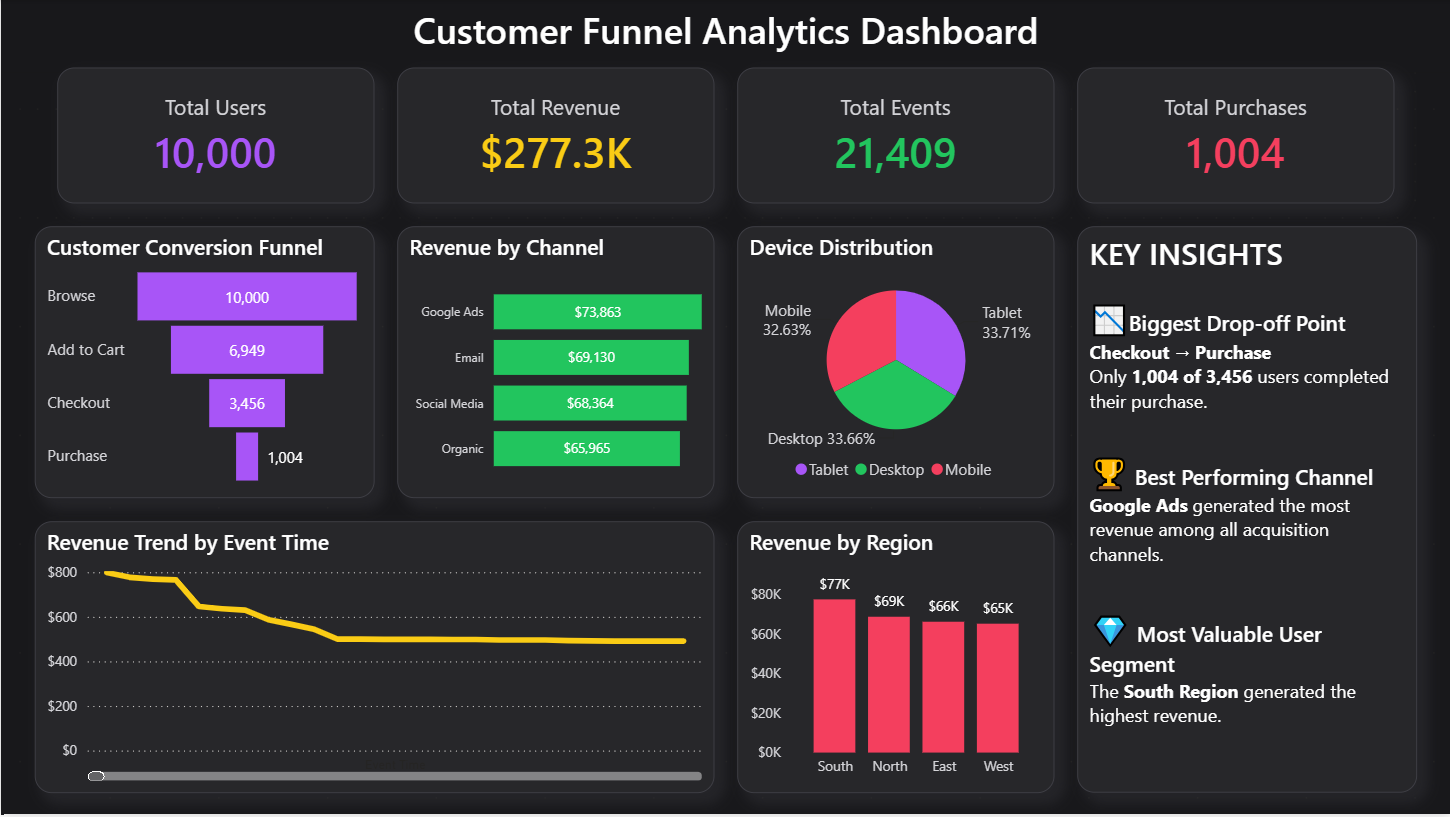

The page's visual inventory and layout, read from the dashboard file:
{"tool":"powerbi","page":{"name":"Page 1","canvas":[1280,720],"ordinal":0},"visuals":[{"type":"textbox","box":[0,0,1280,64],"z":0},{"type":"cardVisual","fields":{"Data":["client_site_dataset.Total Users"]},"box":[50,60,280,120],"z":1000},{"type":"cardVisual","fields":{"Data":["client_site_dataset.Total Revenue"]},"box":[350,60,280,120],"z":2000},{"type":"cardVisual","fields":{"Data":["client_site_dataset.Total Events"]},"box":[650,60,280,120],"z":3000},{"type":"cardVisual","fields":{"Data":["client_site_dataset.Total Purchases"]},"box":[950,60,280,120],"z":4000},{"type":"funnel","title":"Customer Conversion Funnel","fields":{"Category":["client_site_dataset.Event"],"Y":["Count(client_site_dataset.User ID)"]},"box":[30,200,300,240],"z":5000},{"type":"clusteredBarChart","title":"Revenue by Channel","fields":{"Category":["client_site_dataset.Channel"],"Y":["client_site_dataset.Total Revenue"]},"box":[350,200,280,240],"z":6000},{"type":"clusteredColumnChart","title":"Revenue by Region","fields":{"Category":["client_site_dataset.Region"],"Y":["client_site_dataset.Total Revenue"]},"box":[650,460,280,240],"z":7000},{"type":"lineChart","title":"Revenue Trend by Event Time","fields":{"Category":["client_site_dataset.Event Time"],"Y":["client_site_dataset.Total Revenue"]},"box":[30,460,600,240],"z":8000},{"type":"pieChart","title":"Device Distribution","fields":{"Category":["client_site_dataset.Device"],"Y":["Count(client_site_dataset.User ID)"]},"box":[650,200,280,240],"z":8001},{"type":"textbox","title":"KEY INSIGHTS","box":[950,200,300,500],"z":8002}]}

Visuals, with their boxes in screenshot pixels (x1, y1, x2, y2), scaled from the page's 1280x720 canvas onto the 1450x817 screenshot:
textbox: 0,0,1449,73
cardVisual - client_site_dataset.Total Users: 57,68,374,204
cardVisual - client_site_dataset.Total Revenue: 396,68,714,204
cardVisual - client_site_dataset.Total Events: 736,68,1054,204
cardVisual - client_site_dataset.Total Purchases: 1076,68,1393,204
"Customer Conversion Funnel" funnel: 34,227,374,499
"Revenue by Channel" clusteredBarChart: 396,227,714,499
"Revenue by Region" clusteredColumnChart: 736,522,1054,794
"Revenue Trend by Event Time" lineChart: 34,522,714,794
"Device Distribution" pieChart: 736,227,1054,499
"KEY INSIGHTS" textbox: 1076,227,1416,794
